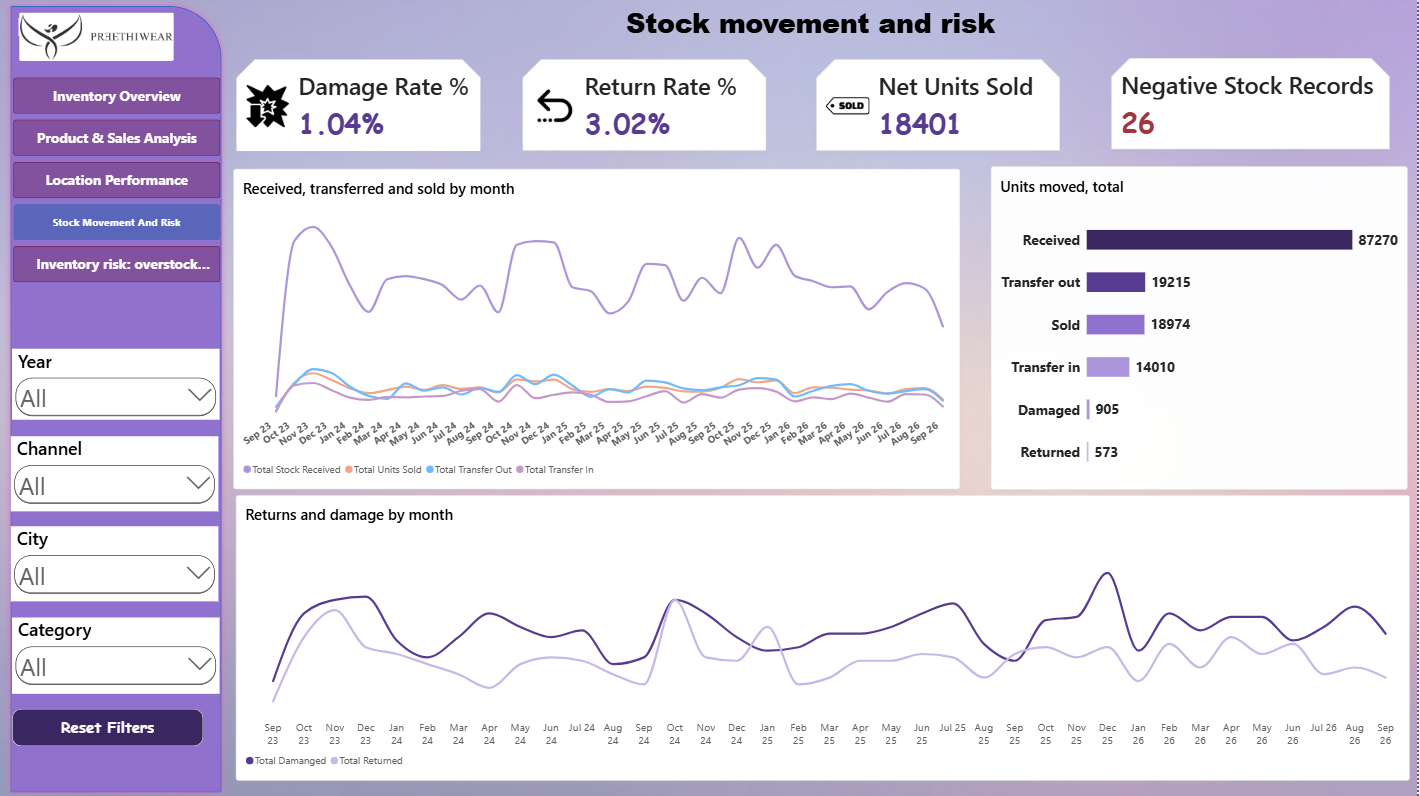

What the dashboard file says about the page in this screenshot:
{"tool":"powerbi","page":{"name":"Stock Movement And Risk","canvas":[1920,1080],"ordinal":3},"visuals":[{"type":"cardVisual","fields":{"Data":["Inventory Transactions.Damage Rate %"]},"box":[323.2,80.3,331.4,125.6],"z":0},{"type":"textbox","title":"Stock movement and risk","box":[315.6,4.7,1568.4,63.8],"z":1000},{"type":"cardVisual","fields":{"Data":["Inventory Transactions.Return Rate %"]},"box":[710.1,80.3,331.4,125.6],"z":2000},{"type":"cardVisual","fields":{"Data":["Inventory Transactions.Net Units Sold"]},"box":[1107.4,80.3,331.4,125.6],"z":3000},{"type":"cardVisual","fields":{"Data":["Inventory Transactions.Negative Stock Records"]},"box":[1506.4,77.8,378.7,125.6],"z":4000},{"type":"clusteredBarChart","title":"Units moved, total","fields":{"Category":["Movement Type.Movement"],"Y":["Inventory Transactions.Units Moved"]},"box":[1343.4,224.5,564.2,437.7],"z":5000},{"type":"lineChart","title":"Received, transferred and sold by month","fields":{"Category":["Date.Month Label"],"Y":["Inventory Transactions.Total Stock Received","Inventory Transactions.Total Units Sold","Inventory Transactions.Total Transfer Out","Inventory Transactions.Total Transfer In"]},"box":[318.9,228.3,983,434],"z":6000},{"type":"shape","box":[10.3,0,301.5,1080],"z":7000},{"type":"pageNavigator","box":[21.4,104.8,280.1,278],"z":8000},{"type":"textbox","title":"Inventory Intelligence","box":[29.9,51.3,259.3,57.6],"z":9000},{"type":"textbox","title":"Preethi Wear","box":[27.8,17.1,290.2,49.4],"z":10000},{"type":"actionButton","box":[20.3,958.6,258.7,50.7],"z":19000},{"type":"image","box":[25.4,16.9,218.1,65.9],"z":20000},{"type":"lineChart","title":"Returns and damage by month","fields":{"Category":["Date.Month Label"],"Y":["Inventory Transactions.Total Damanged","Inventory Transactions.Total Returned"]},"box":[322.7,669.8,1588.2,386.3],"z":20002},{"type":"slicer","fields":{"Values":["Date.Year"]},"box":[20.3,471.7,280.7,96.4],"z":20003},{"type":"slicer","fields":{"Values":["Inventory Locations.Channel"]},"box":[18.6,590,280.7,101.4],"z":20004},{"type":"slicer","fields":{"Values":["Inventory Locations.City"]},"box":[18.6,711.8,280.7,101.4],"z":20005},{"type":"slicer","fields":{"Values":["Product Details.category"]},"box":[20.3,835.2,280.7,103.1],"z":20006}]}

Visuals, with their boxes in screenshot pixels (x1, y1, x2, y2), scaled from the page's 1920x1080 canvas onto the 1420x796 screenshot:
cardVisual - Inventory Transactions.Damage Rate %: locate(239, 59, 484, 152)
"Stock movement and risk" textbox: locate(233, 3, 1393, 50)
cardVisual - Inventory Transactions.Return Rate %: locate(525, 59, 770, 152)
cardVisual - Inventory Transactions.Net Units Sold: locate(819, 59, 1064, 152)
cardVisual - Inventory Transactions.Negative Stock Records: locate(1114, 57, 1394, 150)
"Units moved, total" clusteredBarChart: locate(994, 165, 1411, 488)
"Received, transferred and sold by month" lineChart: locate(236, 168, 963, 488)
shape: locate(8, 0, 231, 795)
pageNavigator: locate(16, 77, 223, 282)
"Inventory Intelligence" textbox: locate(22, 38, 214, 80)
"Preethi Wear" textbox: locate(21, 13, 235, 49)
actionButton: locate(15, 707, 206, 744)
image: locate(19, 12, 180, 61)
"Returns and damage by month" lineChart: locate(239, 494, 1413, 778)
slicer - Date.Year: locate(15, 348, 223, 419)
slicer - Inventory Locations.Channel: locate(14, 435, 221, 510)
slicer - Inventory Locations.City: locate(14, 525, 221, 599)
slicer - Product Details.category: locate(15, 616, 223, 692)
